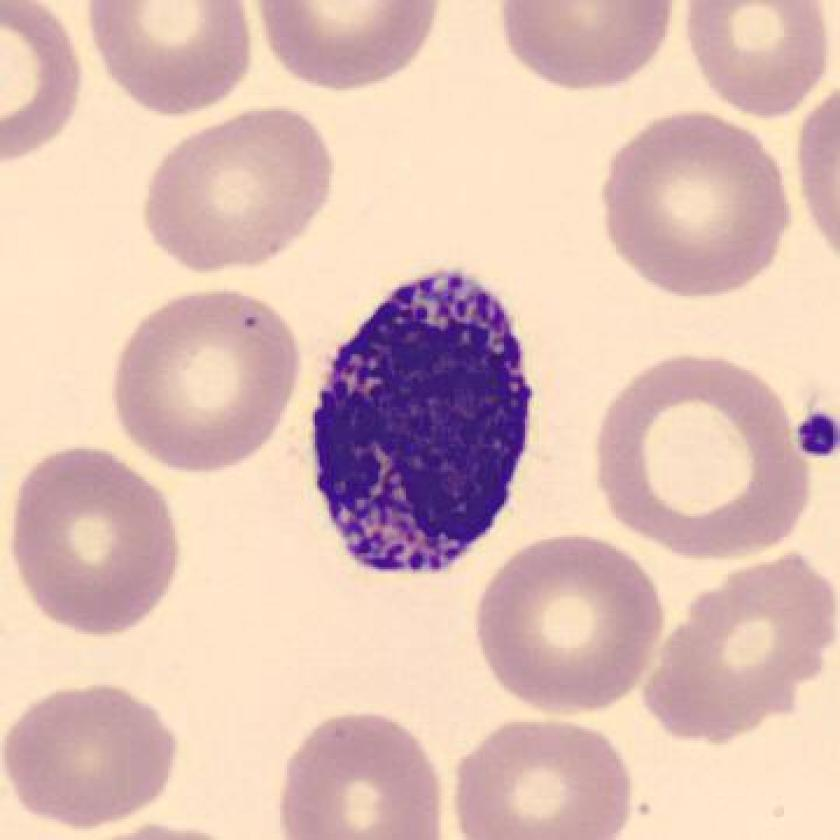basophil: (295, 239, 540, 591)
